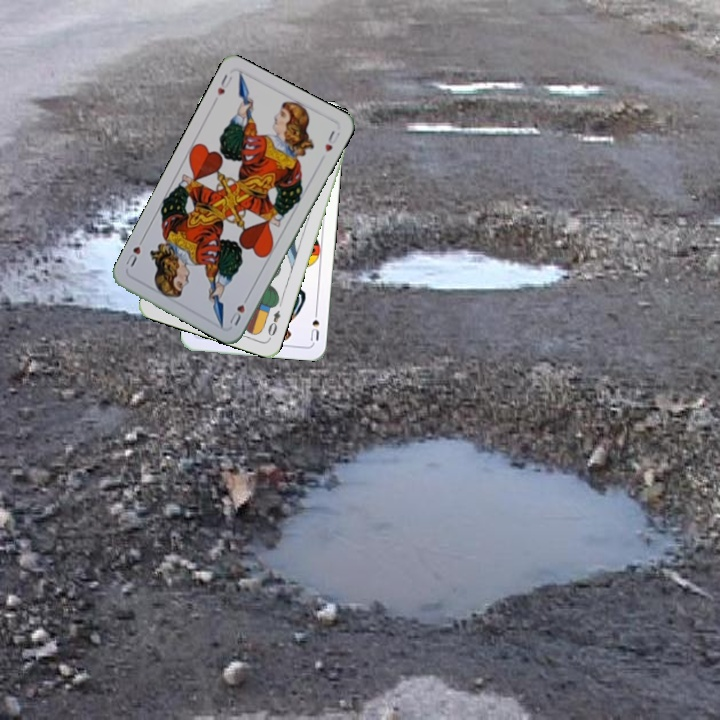EO: (264, 306, 283, 342)
HU: (225, 291, 252, 328), (213, 70, 235, 98)
SU: (306, 304, 322, 343)
